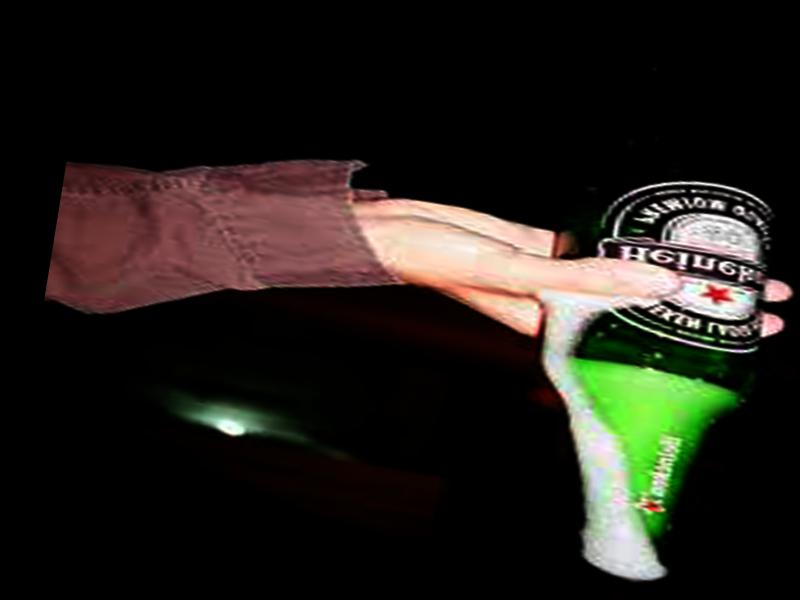Beer: (506, 149, 793, 576)
